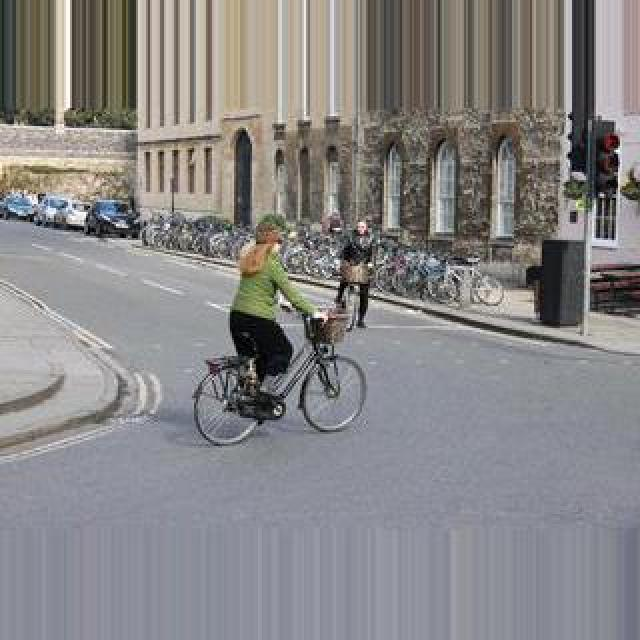Bus-Bike: (84, 200, 138, 240)
MC-Bike: (228, 218, 322, 408), (338, 220, 378, 330)
Person: (194, 308, 368, 446), (430, 250, 504, 306)
